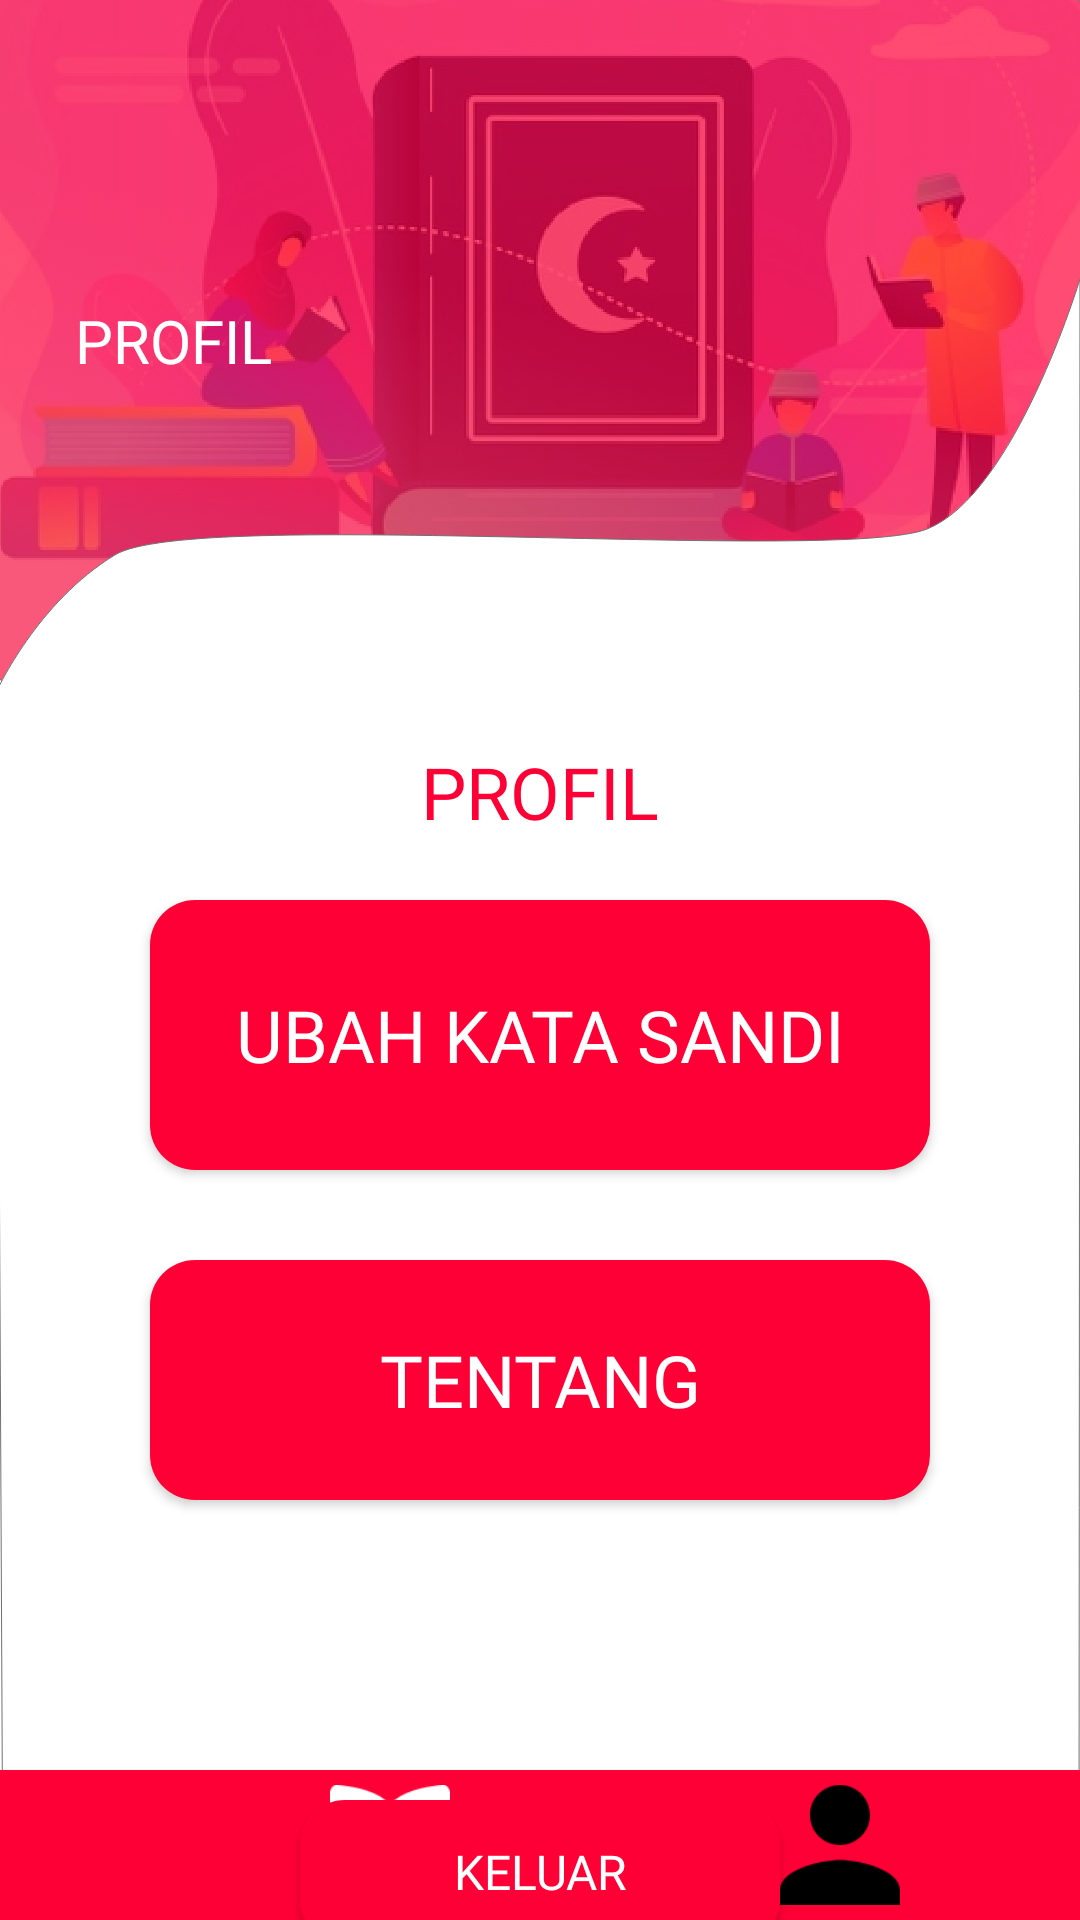

Icons on this 1080px x 1920px Android screen, each with the point to tap as (x,y):
akun: (840,1845)
